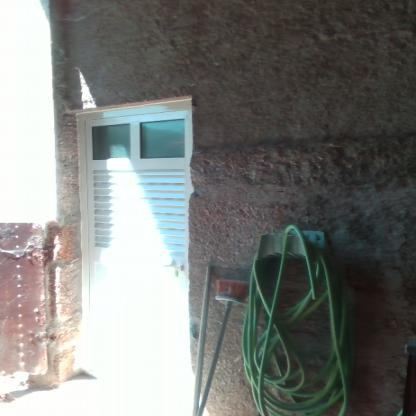door: (85, 116, 192, 390)
lever: (150, 258, 175, 269)
